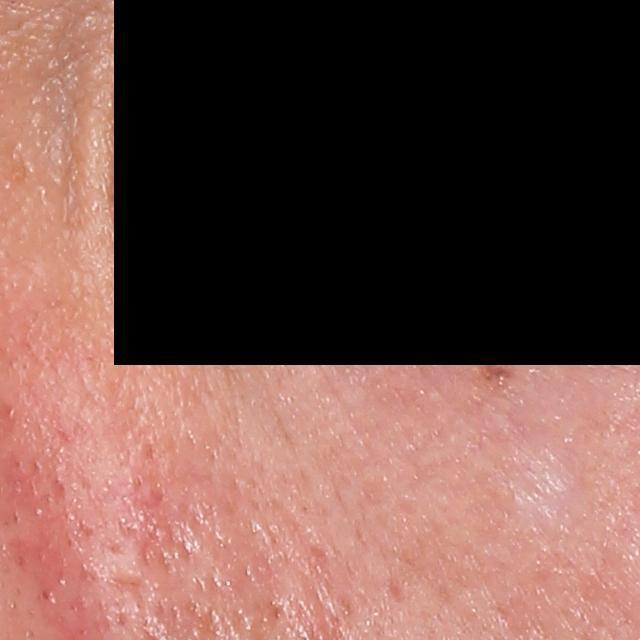nevus: (474, 353, 521, 392)
